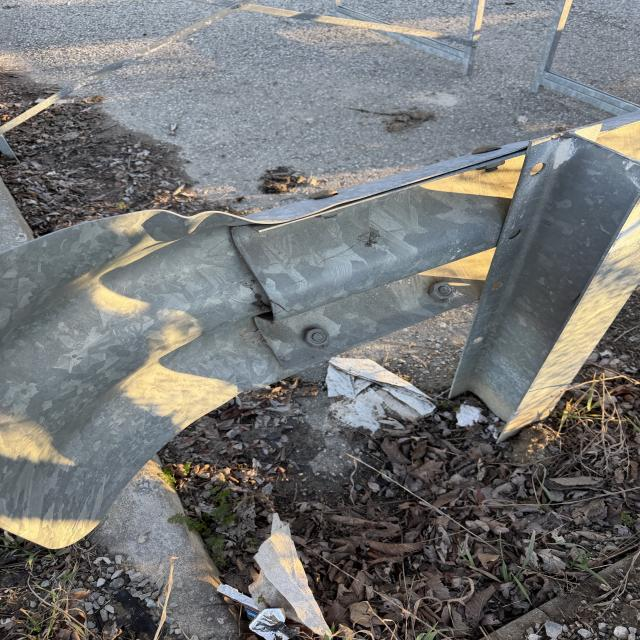Guard rail: (174, 143, 640, 328), (1, 223, 275, 536)
